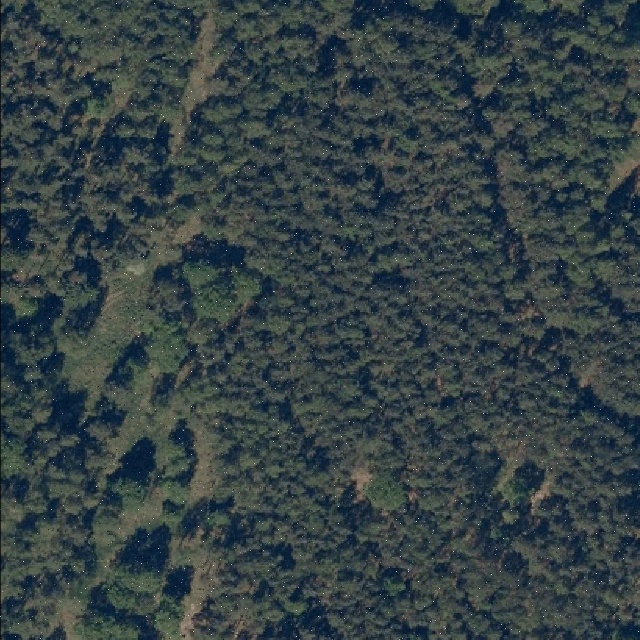vegetation: (2, 1, 639, 638)
